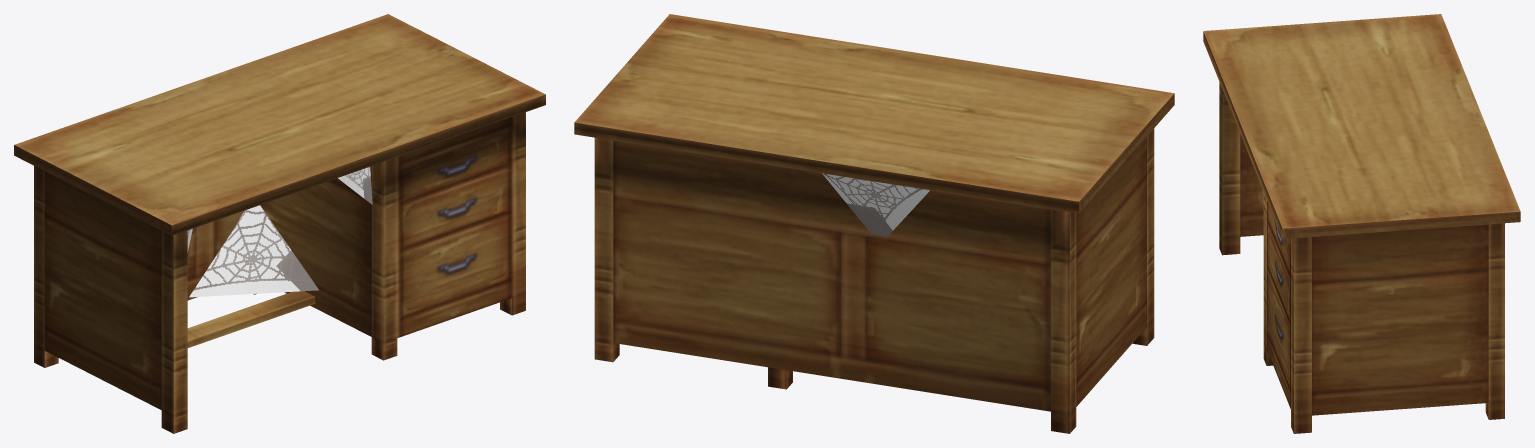
File: a_SWGdesk01b_01.glb
The picture shows the model from 3 angles, left to right: view 1: azimuth 30°, elevation 25°; view 2: azimuth 150°, elevation 25°; view 3: azimuth 270°, elevation 25°; orthographic projection. The views are drawn at different scales.
Visible parts, largest first — view 1: a_SWGdesk01b_01; view 2: a_SWGdesk01b_01; view 3: a_SWGdesk01b_01.
Part boxes in pixels (x1,y1,x2,y2): a_SWGdesk01b_01: [14, 14, 545, 433]; a_SWGdesk01b_01: [574, 14, 1174, 433]; a_SWGdesk01b_01: [1203, 14, 1520, 433].
Bounding box in the file's own units: 2.12 × 0.9763 × 1.32.
2 materials, 2 textured.
